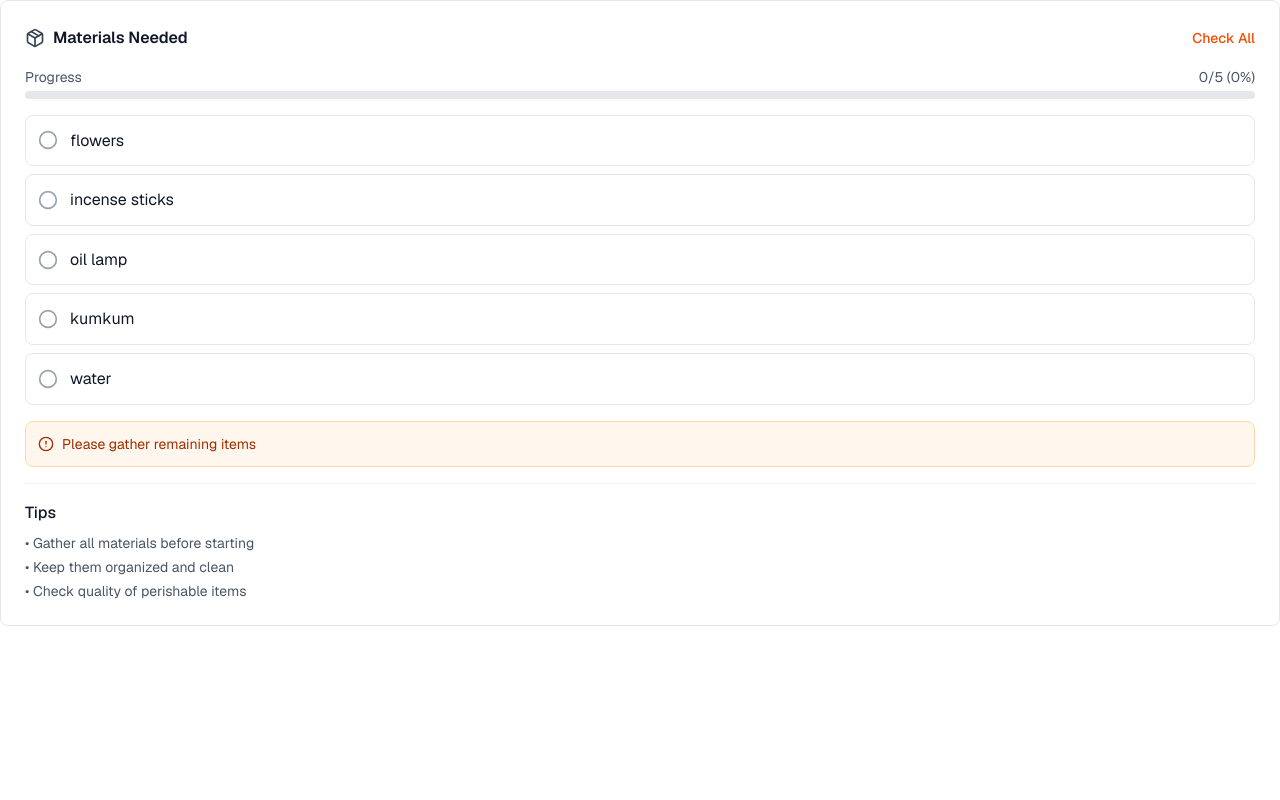
Test: MaterialsChecklist › shows completion status correctly
The image size is (1280, 800).
Expected: the text "Please gather remaining items" is shown, [25,421,1255,467]
Click the button "flowers": (97, 140) [25,115,1255,166]
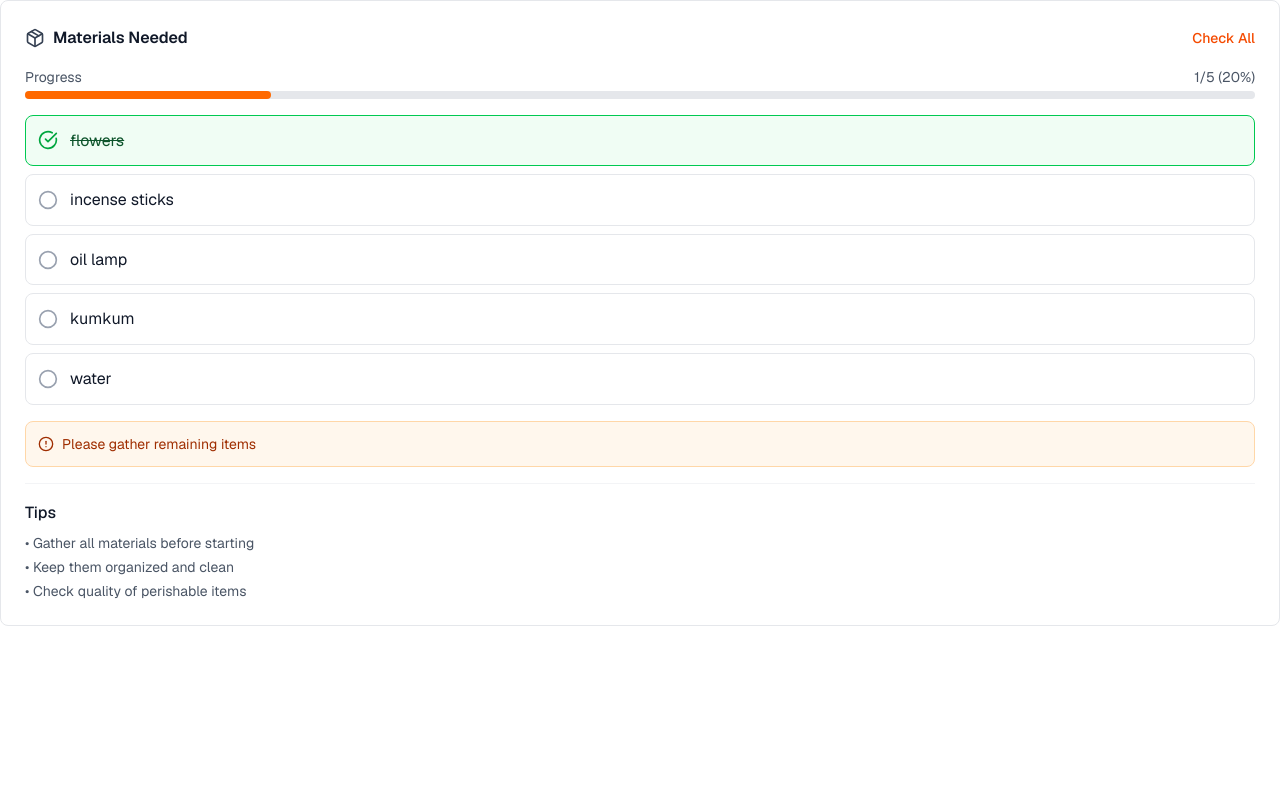
Click the button "incense sticks": (122, 200) [25,174,1255,226]
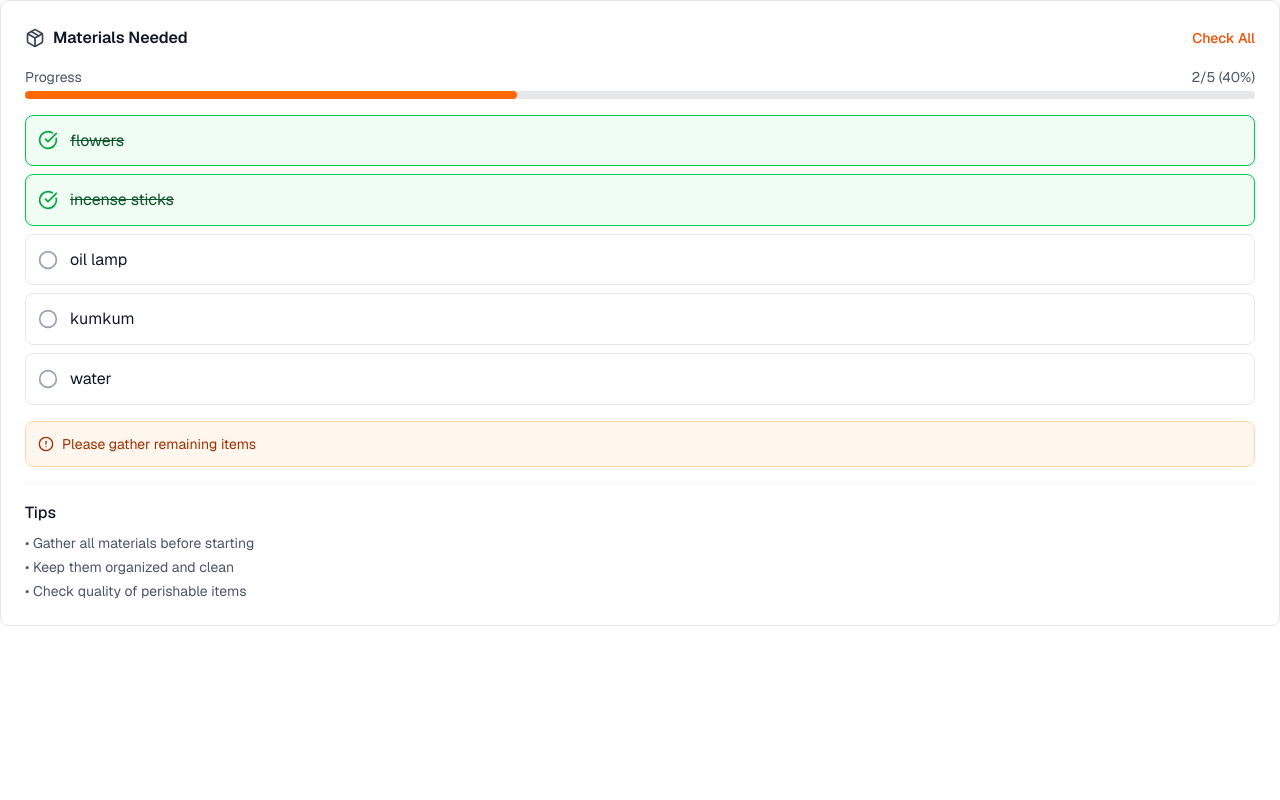
Click the button "oil lamp": (99, 259) [25,234,1255,285]
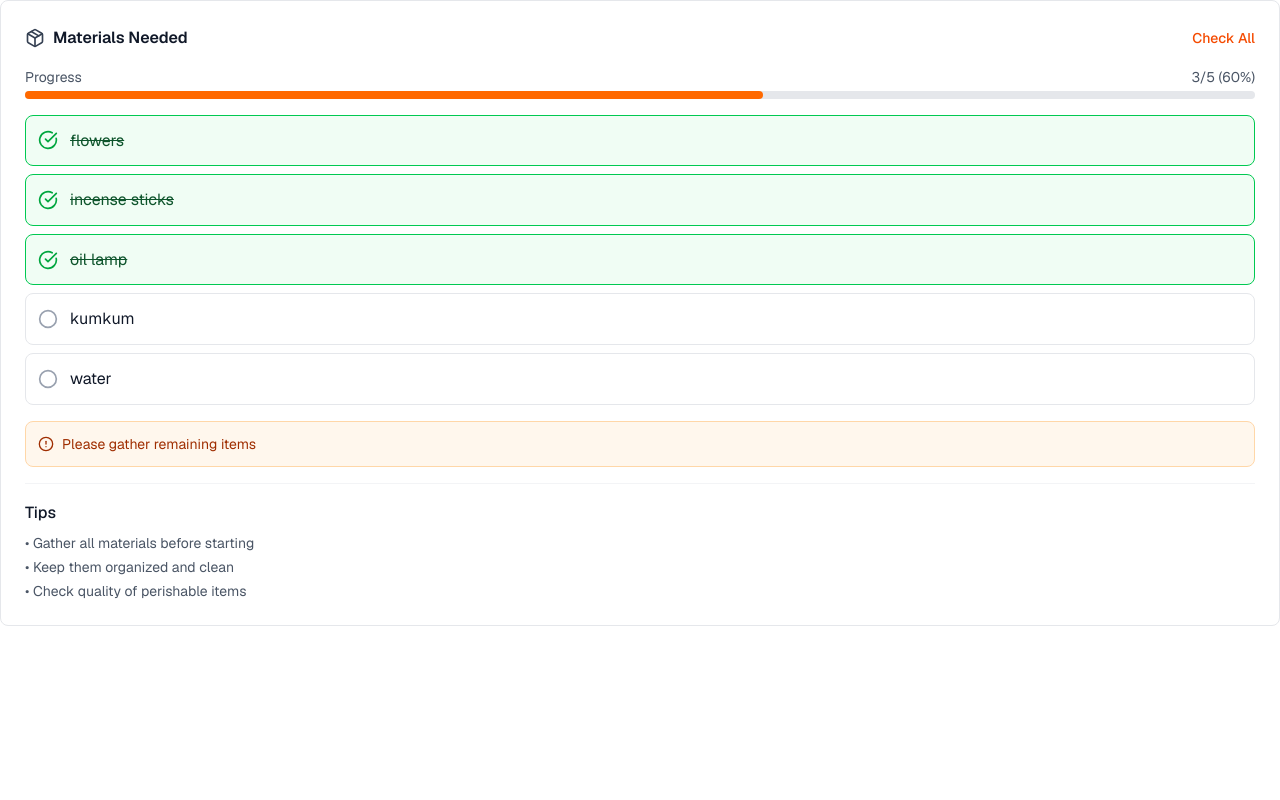
Click the button "kumkum": (102, 319) [25,293,1255,345]
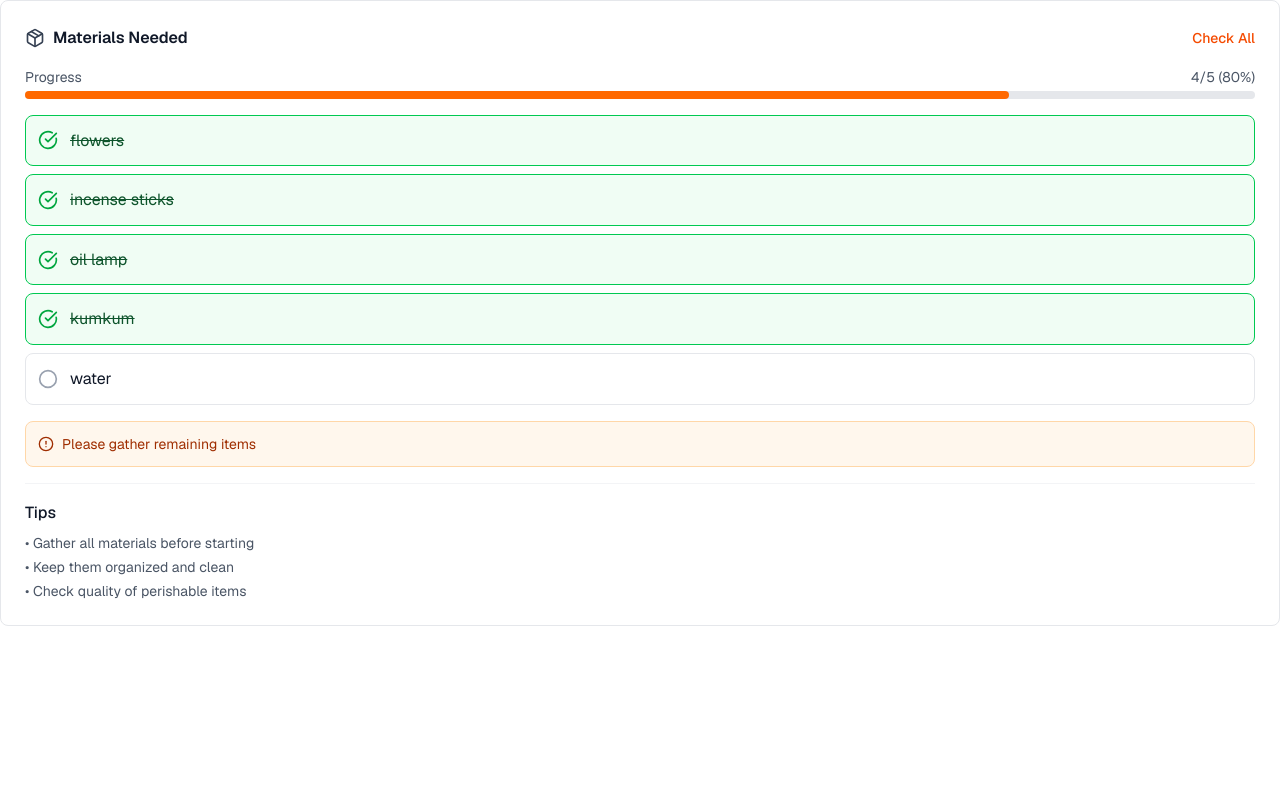
Click the button "water": (91, 378) [25,353,1255,405]
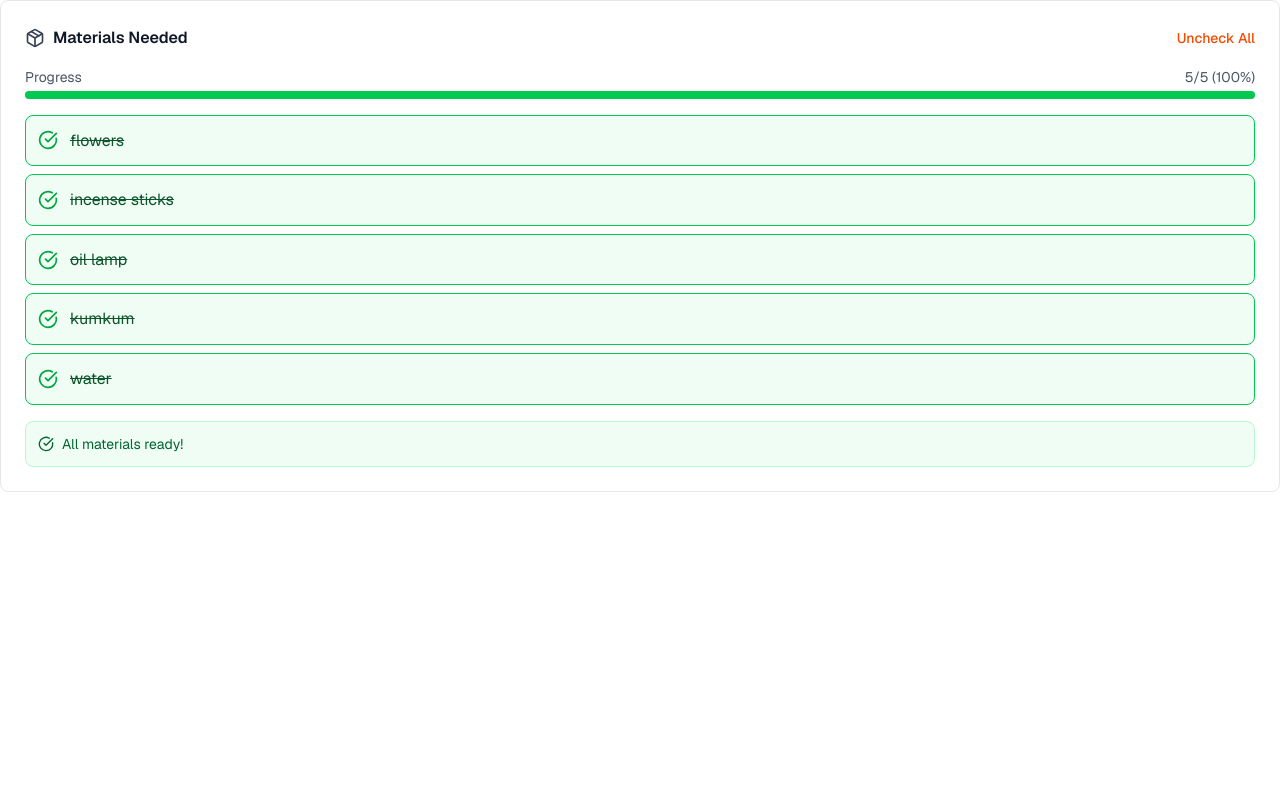
Expected: the text "All materials ready!" is shown, [25,421,1255,467]
